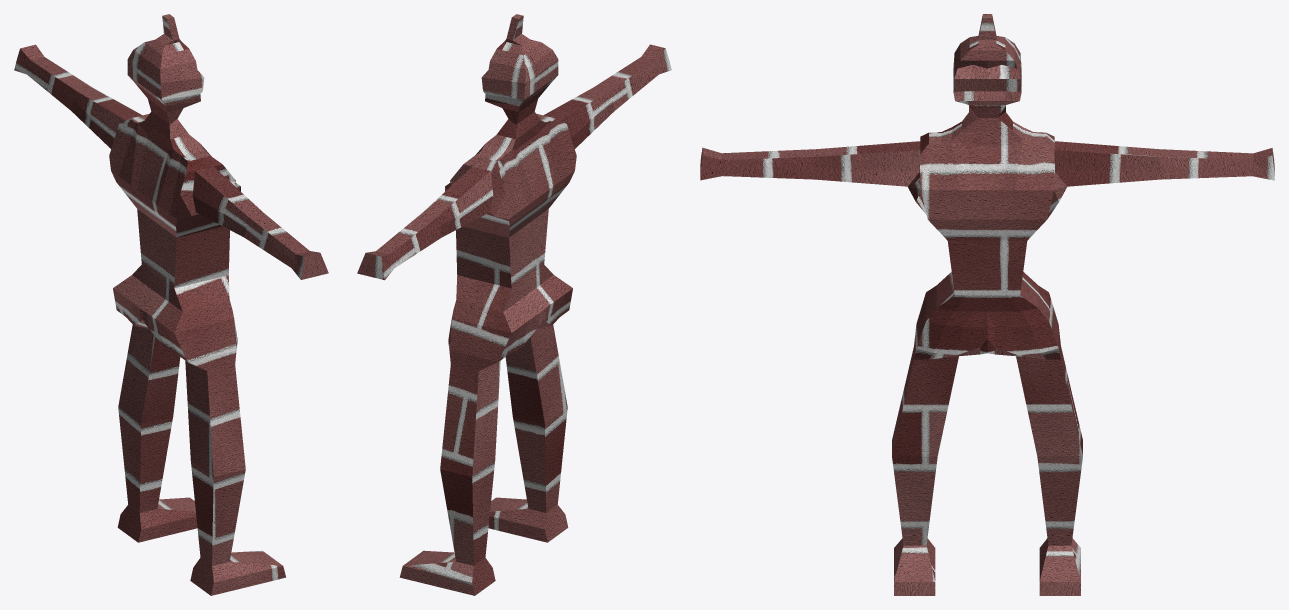
File: BrickFrank.gltf
The picture shows the model from 3 angles, left to right: view 1: azimuth 30°, elevation 25°; view 2: azimuth 150°, elevation 25°; view 3: azimuth 270°, elevation 25°; orthographic projection.
Parts seen in each view (by area): view 1: Frank; view 2: Frank; view 3: Frank.
Boxes of the visible parts, x1,y1,x2,y2 form: Frank: (14,14,328,595); Frank: (357,14,671,595); Frank: (700,14,1274,595).
Size of the model in its own units: 0.378 by 2.03 by 1.94.
1 material, 1 textured.
